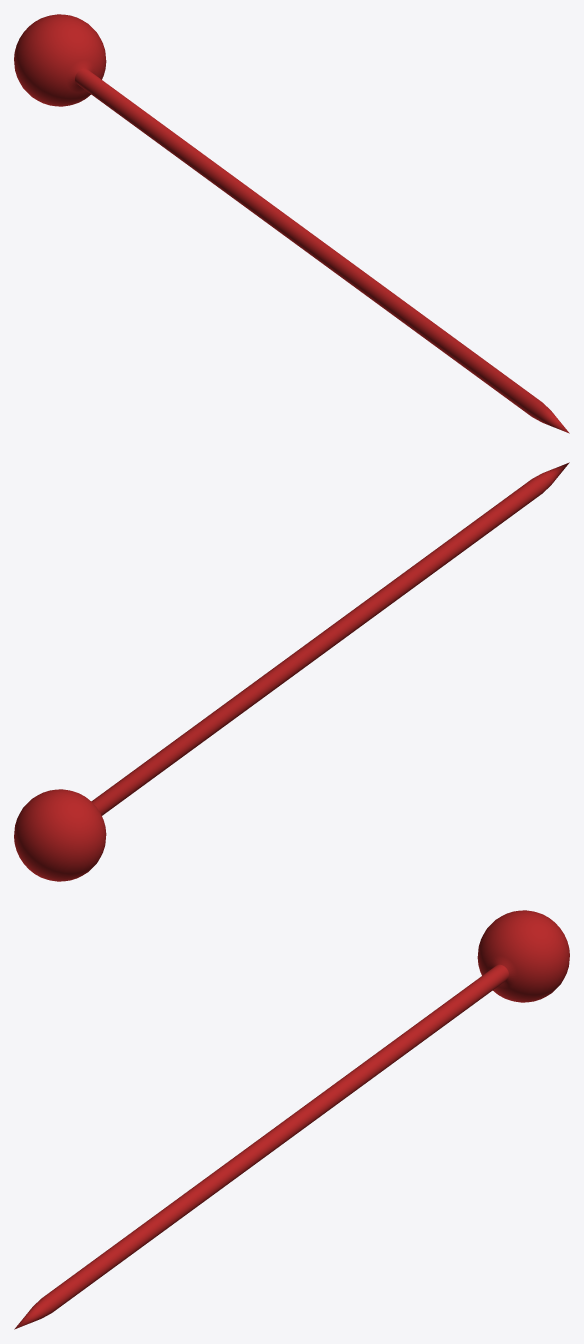
The model's file is FIREBRICK.glb.
3 views of the same model, one above another, from view 1: azimuth 30°, elevation 25°; view 2: azimuth 150°, elevation 25°; view 3: azimuth 330°, elevation 25° (orthographic).
Parts seen in each view (by area): view 1: Sphere; view 2: Sphere; view 3: Sphere.
Boxes of the visible parts, x1,y1,x2,y2 form: Sphere: (14, 14, 569, 433); Sphere: (14, 462, 569, 881); Sphere: (14, 910, 569, 1329).
Size of the model in its own units: 0.02 by 0.02 by 0.2305.
